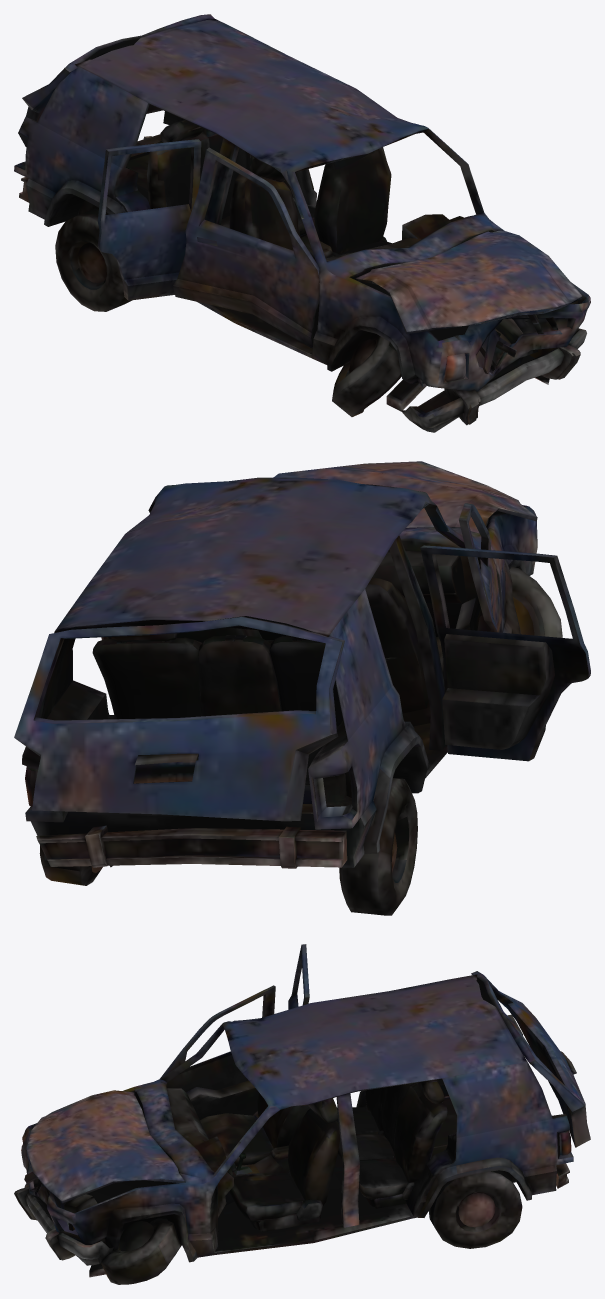
File: car_crashed.glb
3 renders of one model, top to bottom at view 1: azimuth 30°, elevation 25°; view 2: azimuth 150°, elevation 25°; view 3: azimuth 270°, elevation 25°, orthographic. The views are drawn at different scales.
Visible parts, largest first — view 1: KUZA_1, KAPOT_0, DRONT-QAPI_3, BACK-QAPI_4, FRONT-BUFER_2, TEKER.001_7, TEKER_6, BAQAJ_5; view 2: KUZA_1, BAQAJ_5, BACK-QAPI_4, KAPOT_0, TEKER.001_7, DRONT-QAPI_3, TEKER_6, TEKER.002_8; view 3: KUZA_1, KAPOT_0, TEKER.002_8, DRONT-QAPI_3, BAQAJ_5, TEKER.003_9, FRONT-BUFER_2, BACK-QAPI_4.
Boxes of the visible parts, x1,y1,x2,y2 form: KUZA_1: (14,19,590,411); KAPOT_0: (355,230,582,334); DRONT-QAPI_3: (173,147,319,348); BACK-QAPI_4: (97,139,201,300); FRONT-BUFER_2: (400,328,586,432); TEKER.001_7: (55,208,131,311); TEKER_6: (332,333,401,416); BAQAJ_5: (18,14,214,147); KUZA_1: (22,477,537,868); BAQAJ_5: (14,616,344,821); BACK-QAPI_4: (420,545,590,761); KAPOT_0: (273,461,537,533); TEKER.001_7: (339,778,417,915); DRONT-QAPI_3: (455,503,502,632); TEKER_6: (509,566,562,637); TEKER.002_8: (39,845,102,885); KUZA_1: (21,974,573,1277); KAPOT_0: (26,1090,184,1203); TEKER.002_8: (428,1170,522,1248); DRONT-QAPI_3: (160,985,275,1119); BAQAJ_5: (471,971,590,1147); TEKER.003_9: (101,1218,181,1284); FRONT-BUFER_2: (14,1183,113,1265); BACK-QAPI_4: (288,944,309,1009).
Size of the model in its own units: 5.14 by 2.92 by 7.64.
Materials: 1 (1 with a texture image).
